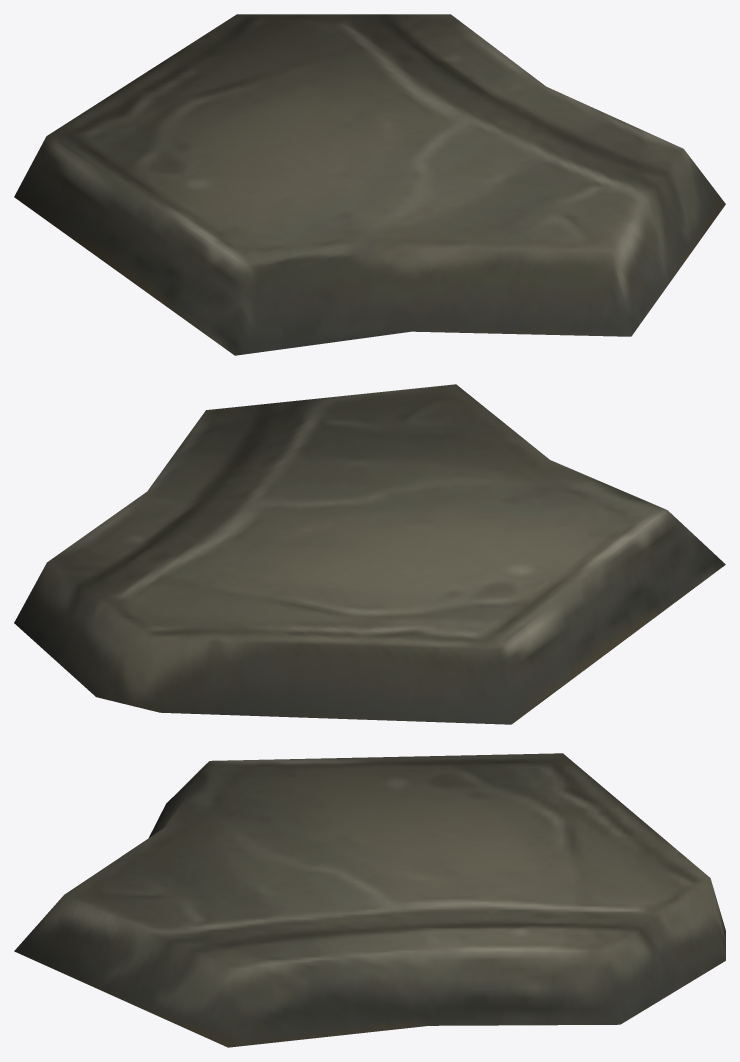
File: sn_longmai_yuantai_003.FBX
3 renders of one model, top to bottom at view 1: azimuth 30°, elevation 25°; view 2: azimuth 150°, elevation 25°; view 3: azimuth 270°, elevation 25°, orthographic. The views are drawn at different scales.
Visible parts, largest first — view 1: sn_longmai_yuantai_003; view 2: sn_longmai_yuantai_003; view 3: sn_longmai_yuantai_003.
Boxes of the visible parts, <box> form: sn_longmai_yuantai_003: <box>14,14,725,355</box>; sn_longmai_yuantai_003: <box>14,384,725,724</box>; sn_longmai_yuantai_003: <box>14,753,725,1047</box>.
Bounding box in the file's own units: 165 × 18.75 × 203.
